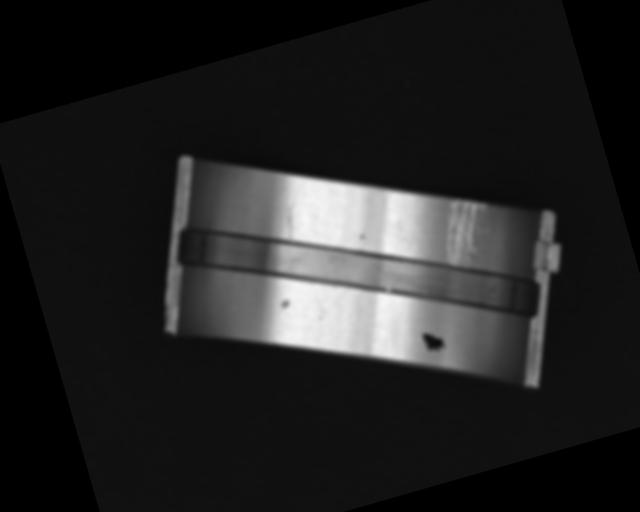blot: (420, 326, 448, 355)
bruise: (279, 298, 290, 309), (359, 234, 366, 241)
gap: (168, 138, 544, 407)
nick: (277, 194, 308, 243)
scratch: (433, 192, 501, 269)
